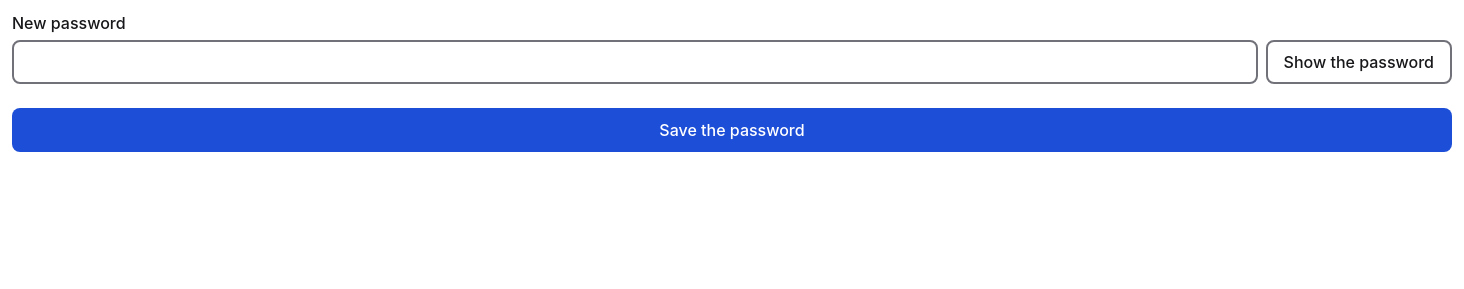
Scenario: the form of "Choose your password" › [TRV-64] says that the password cannot be saved now, on the whole form
The image size is (1464, 289).
Type "chosen-meadow-violet-quartz" into the password field labelled "New password".
click(635, 62); type("chosen-meadow-violet-quartz")  # box [12,40,1258,84]
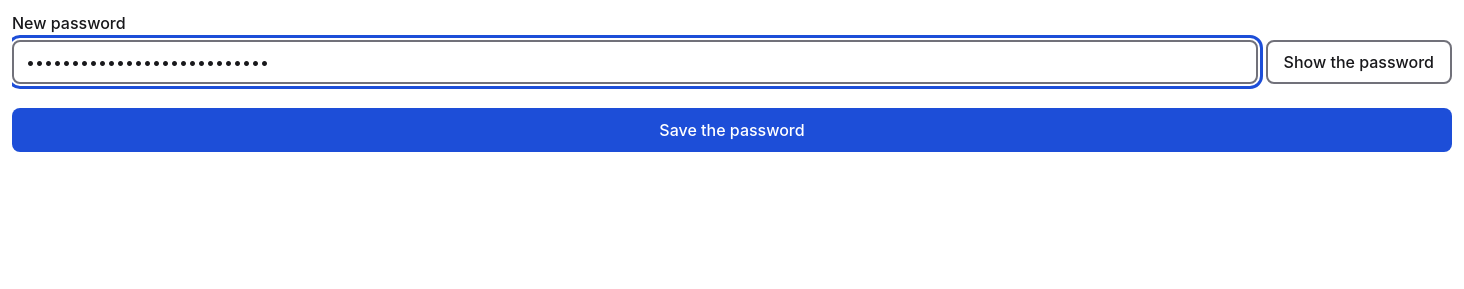
Click the button "Save the password".
click(732, 130)  # box [12,108,1452,152]
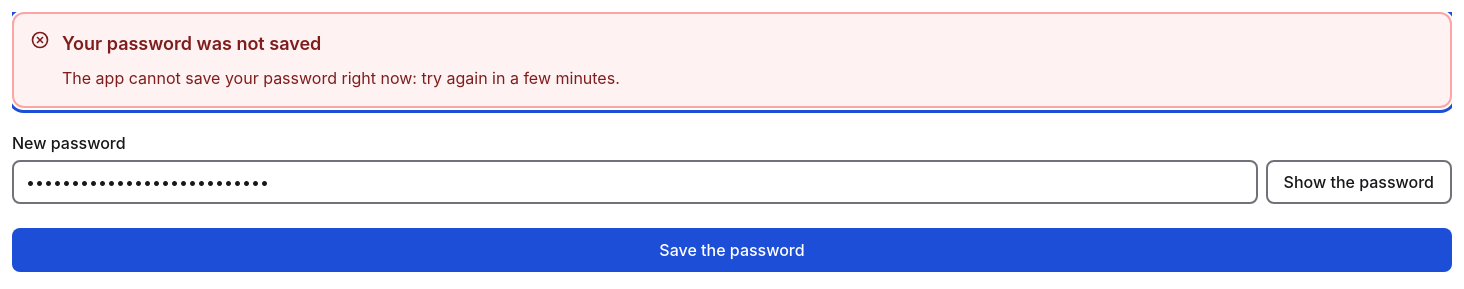
Now the text "The app cannot save your password right now: try again in a few minutes." is shown, box [62,66,620,90]
